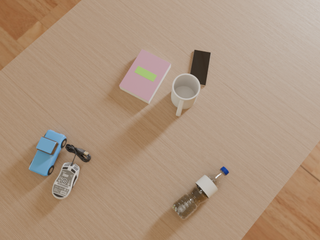book: (119, 49, 171, 104)
bottle: (172, 167, 229, 220)
cup: (171, 74, 200, 116)
mouse: (52, 162, 79, 199)
phone: (190, 50, 211, 86)
toy_car: (29, 130, 67, 176)
